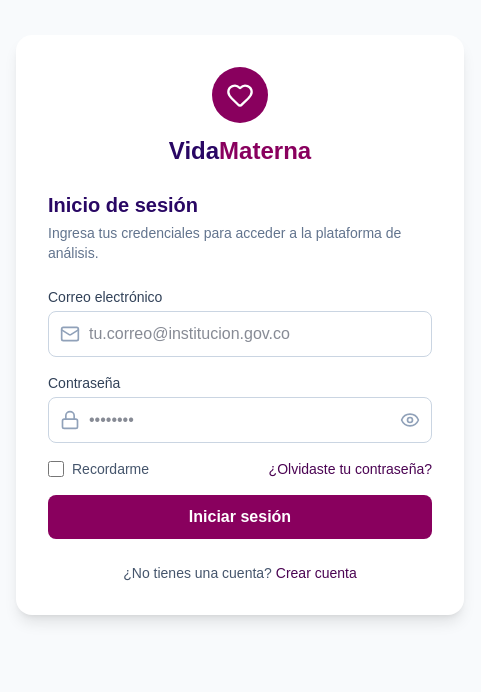
Test case: Login › muestra el aviso informativo al pulsar "¿Olvidaste tu contraseña?"
The width and height of the screenshot is (481, 692).
Click the button "¿Olvidaste tu contraseña?" at (350, 469), box [269, 459, 432, 479]
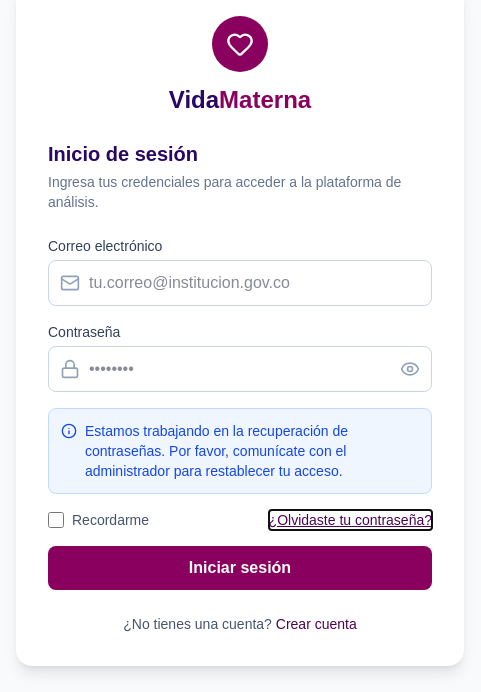
Result: the message shows "recuperación de contraseñas" at [85, 423, 348, 479]
